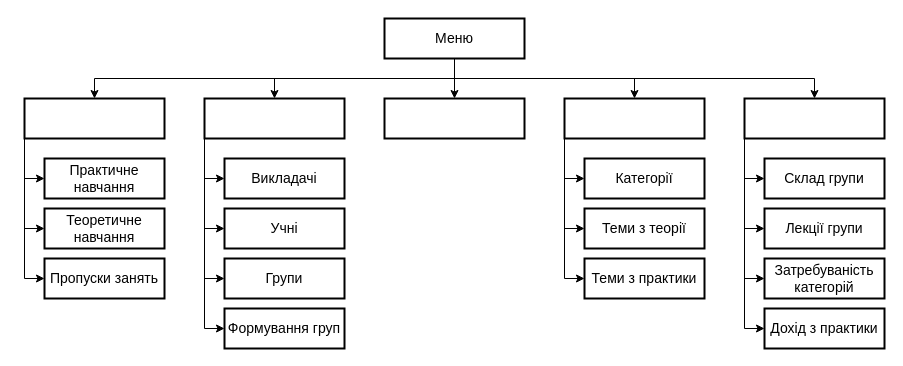
Some shapes in this 903 by 366 pixel diagram are drawn without their labels. The shapes that lost their labels are listed below. From the top down, each one's centre as x and y in pixels, then its label:
[94,118]: Заняття
[274,118]: Склад автошколи
[454,118]: Свідоцтва
[634,118]: Довідкові дані
[814,118]: Звіти
